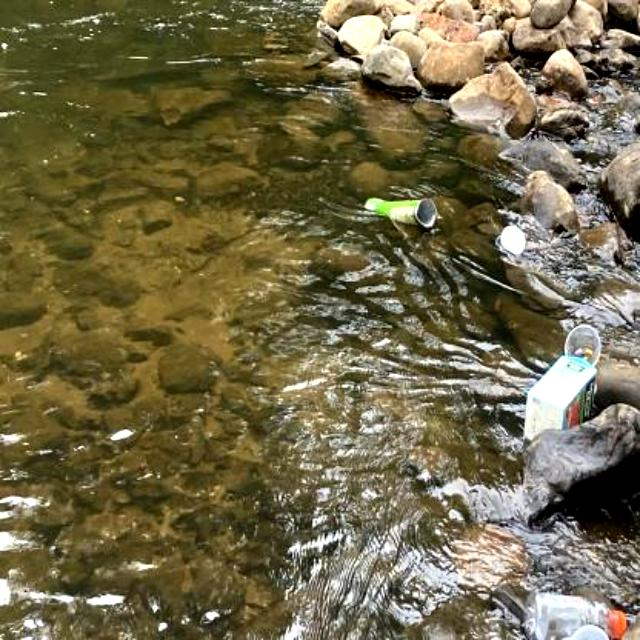Cardboard: (518, 316, 610, 454)
Metal: (360, 189, 442, 235)
Paper: (488, 220, 532, 262)
Plastic: (518, 583, 632, 639)
